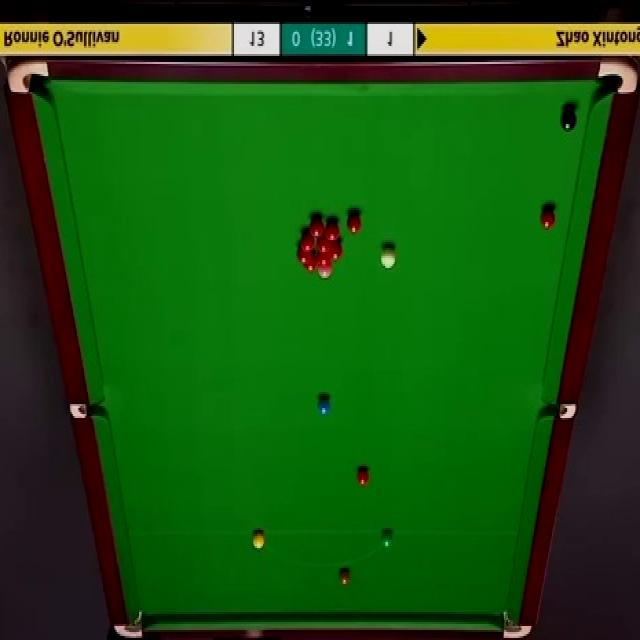black-ball: (560, 108, 576, 134)
blue-ball: (316, 394, 331, 418)
brown-ball: (339, 566, 352, 586)
green-ball: (379, 528, 395, 549)
pink-ball: (318, 268, 332, 279)
red-ball: (323, 220, 339, 243), (347, 211, 361, 233), (541, 208, 555, 230), (356, 466, 370, 486), (296, 244, 310, 264), (304, 254, 318, 274), (310, 222, 323, 243), (301, 232, 315, 250), (329, 242, 342, 260), (317, 239, 331, 254), (318, 253, 330, 269)
white-ball: (380, 244, 398, 270)
yellow-ball: (252, 530, 265, 550)
